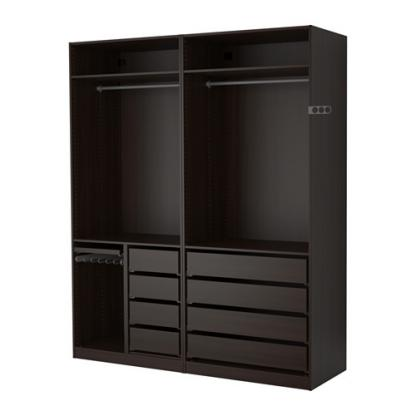Cabinet: (64, 21, 350, 395)
